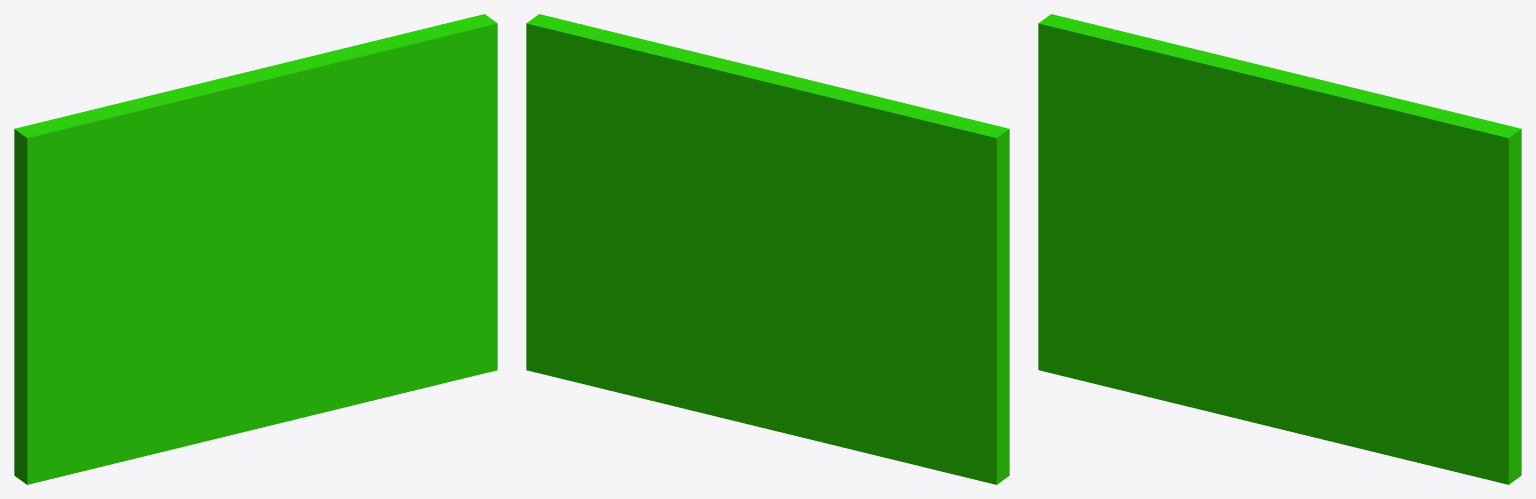
The model's file is R_01_Wall_Int_07.fbx.
The picture shows the model from 3 angles, left to right: view 1: azimuth 30°, elevation 25°; view 2: azimuth 150°, elevation 25°; view 3: azimuth 330°, elevation 25°; orthographic projection.
Parts seen in each view (by area): view 1: R_01_Wall_Int_07; view 2: R_01_Wall_Int_07; view 3: R_01_Wall_Int_07.
Part boxes in pixels (box(x1,y1,x2,y2)): R_01_Wall_Int_07: box(14, 14, 497, 484); R_01_Wall_Int_07: box(526, 14, 1009, 484); R_01_Wall_Int_07: box(1038, 14, 1521, 484).
Size of the model in its own units: 208 by 147 by 9.88.
